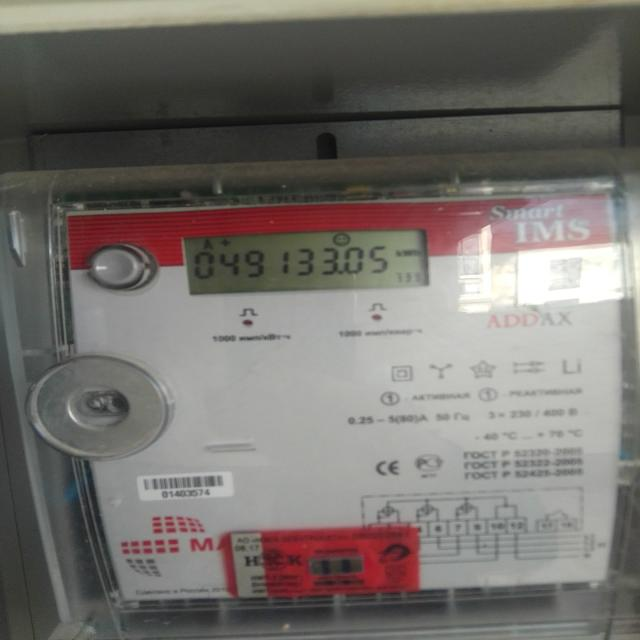Display: (183, 228, 428, 296)
meter_matrica: (0, 170, 640, 640)
meter_number: (136, 470, 232, 503)
seal_imp: (228, 524, 420, 599)
